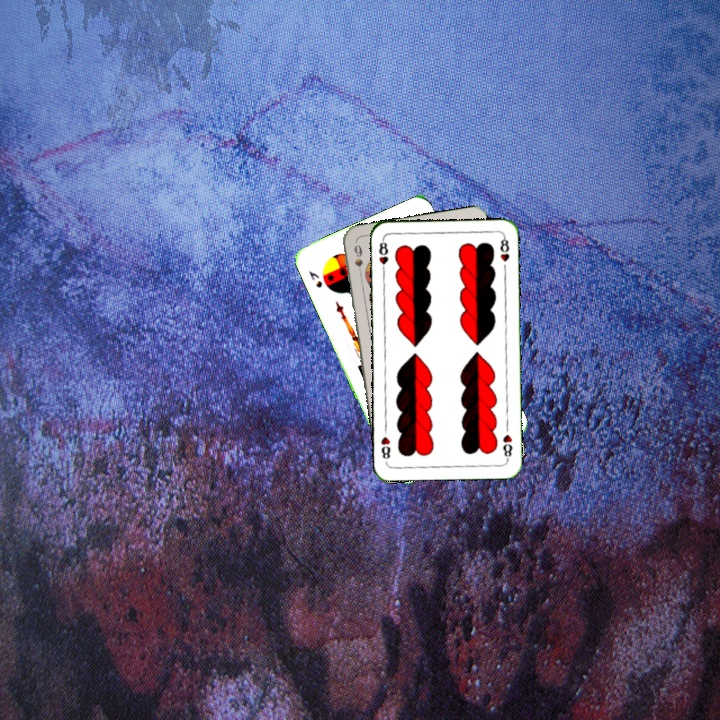H8: (375, 235, 390, 276), (499, 430, 515, 462)
S9: (350, 241, 365, 281)
SK: (305, 267, 325, 291)
